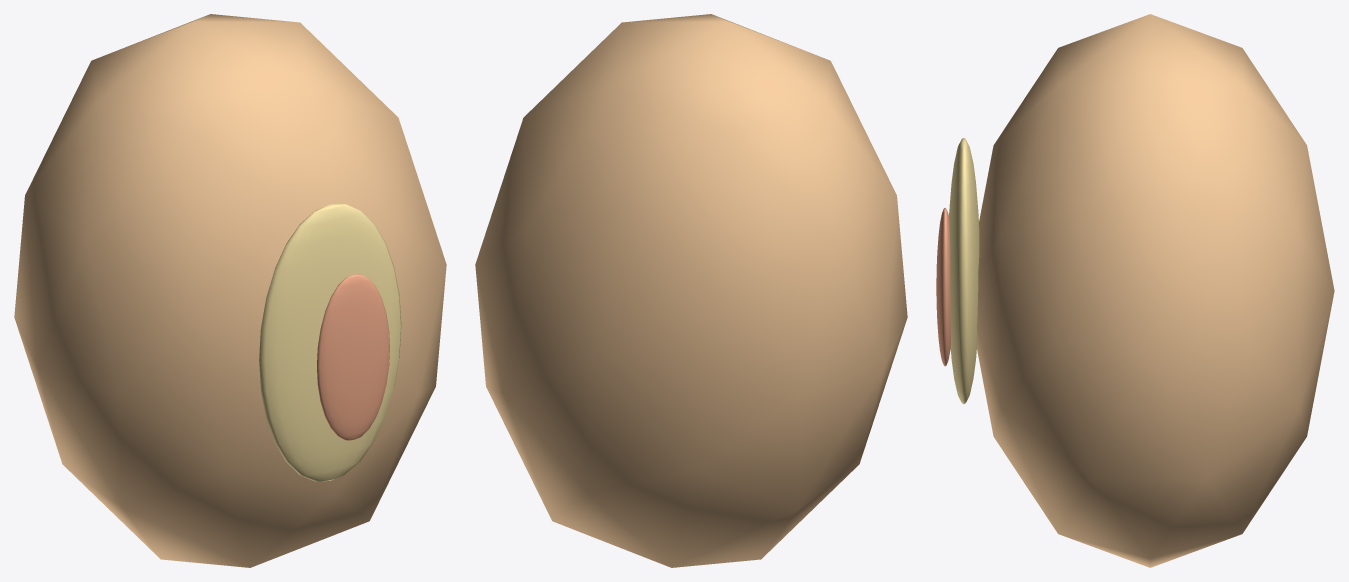
Rendered from item-fireStone.glb.
3 views of the same model, side by side, from view 1: azimuth 30°, elevation 25°; view 2: azimuth 150°, elevation 25°; view 3: azimuth 270°, elevation 25° (orthographic). The views are drawn at different scales.
Visible parts, largest first — view 1: item-fireStone; view 2: item-fireStone; view 3: item-fireStone.
Boxes of the visible parts, box(x1,y1,x2,y2) form: item-fireStone: box(14, 14, 446, 567); item-fireStone: box(475, 14, 907, 567); item-fireStone: box(936, 14, 1334, 567).
Size of the model in its own units: 0.3958 by 0.5442 by 0.3779.
